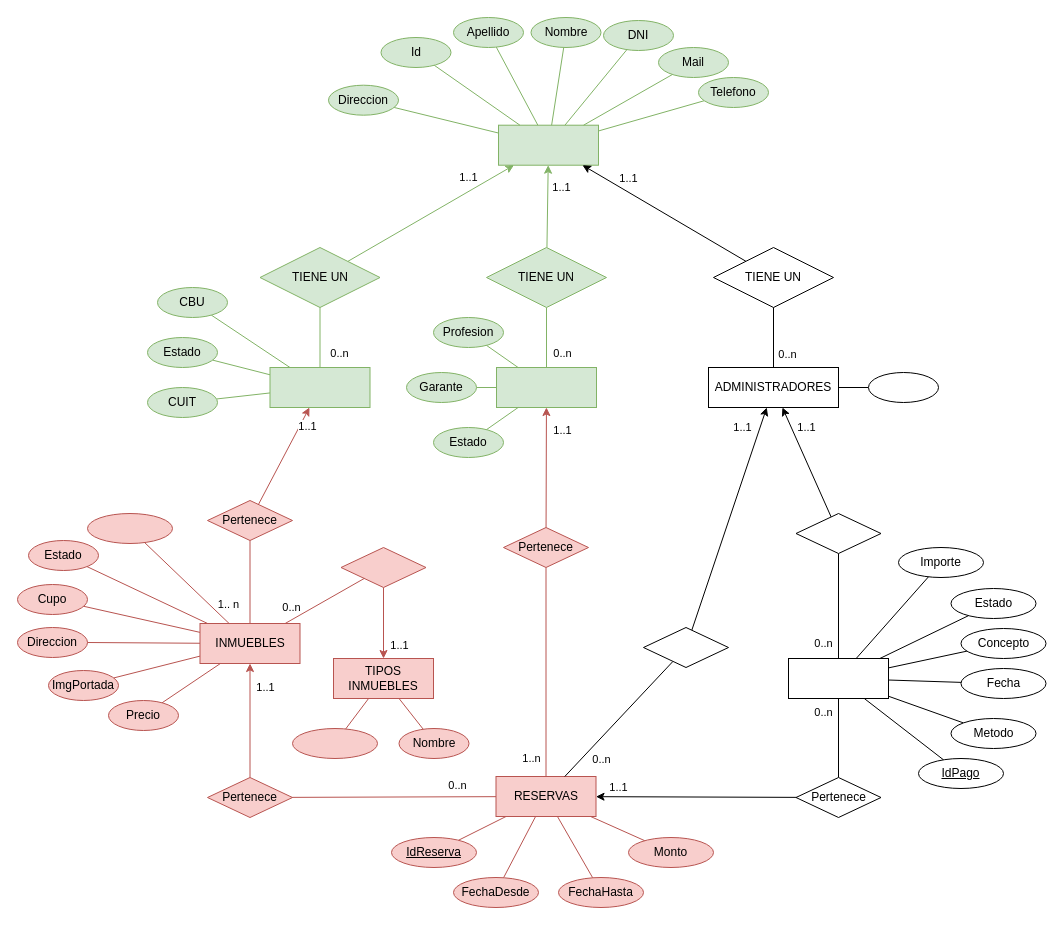
Some shapes in this 1064 by 925 pixel diagram are drawn without their labels. Here are the shapes that lost their labels. From the top down, the centre of each, then its label:
At (x=548, y=144): "PERSONAS".
At (x=319, y=387): "PROPIETARIOS".
At (x=546, y=387): "INQUILINOS".
At (x=903, y=387): "Contraseña".
At (x=129, y=528): "IdInmueble".
At (x=838, y=533): "Recibido".
At (x=383, y=567): "Es".
At (x=685, y=647): "Realizada".
At (x=838, y=678): "PAGO".
At (x=335, y=743): "IdTipo".
